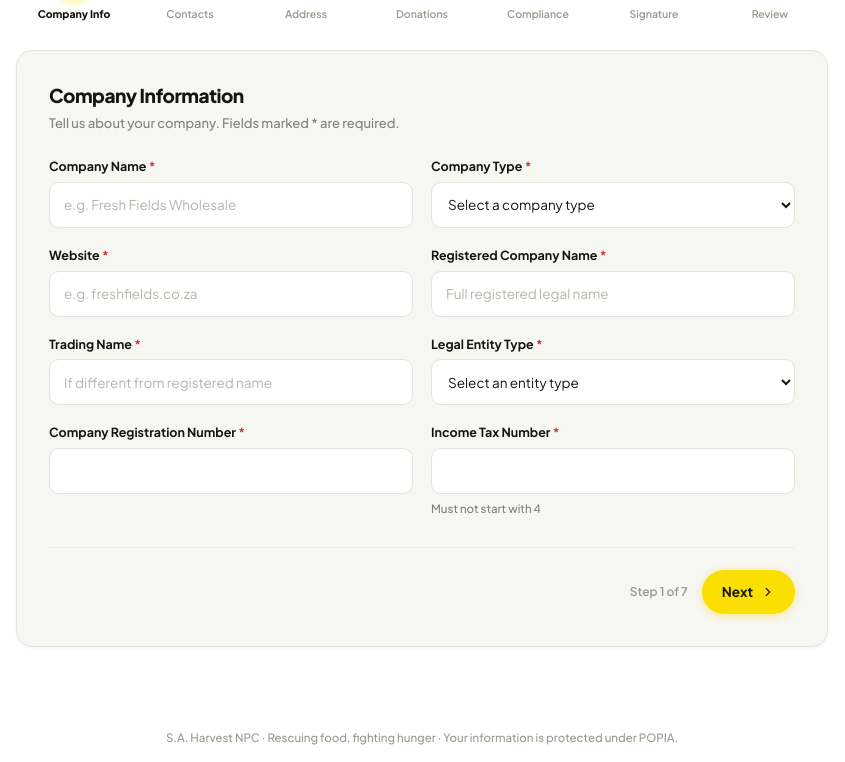
it: PublicFormPage › blocks advancing past step 1 when required fields are missing
(page scrolled)
Step 1. Click the button "Next" → (748,592), box [702,570,795,614]
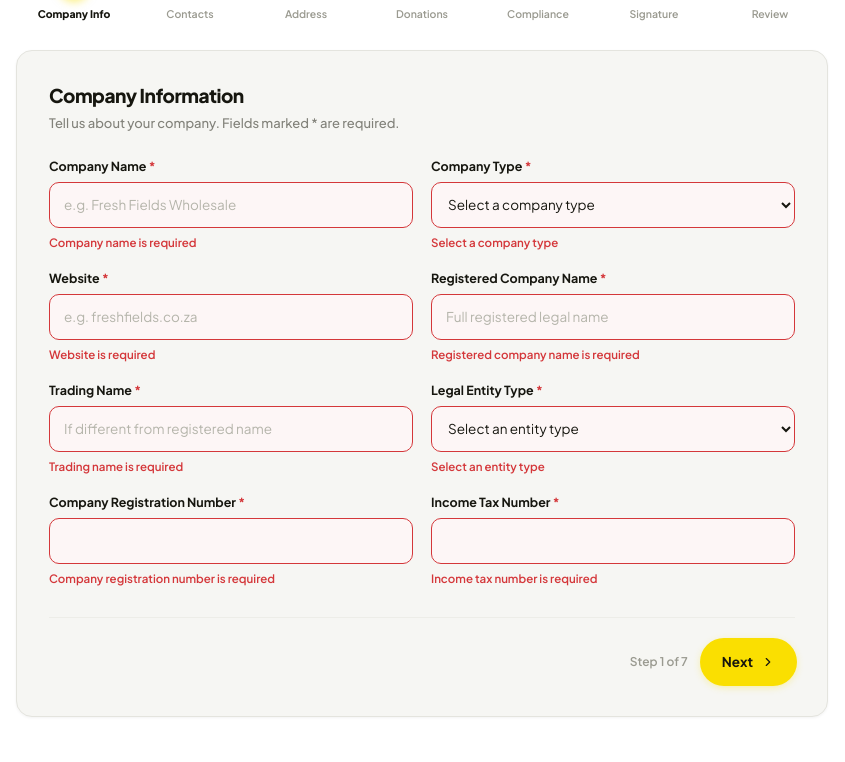
Expected: the text "Step 1 of 7" is shown, [630,654,688,670]
Expected: the text "Company name is required" is shown, [49,235,197,250]
